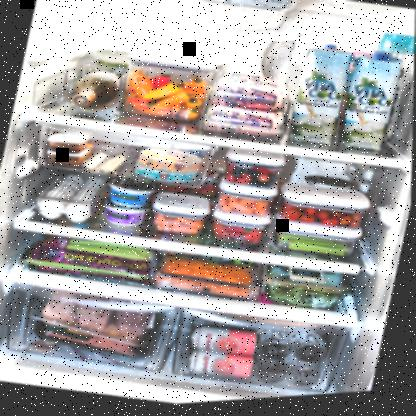carrot: (168, 256, 246, 289)
cheese: (138, 144, 207, 180), (133, 162, 202, 190)
eggs: (63, 201, 92, 226), (38, 197, 66, 221), (46, 188, 72, 202), (54, 183, 78, 198), (65, 174, 84, 186), (75, 192, 94, 204), (89, 176, 105, 187), (81, 188, 98, 197)
ground_beef: (47, 325, 137, 361)
milk: (339, 51, 405, 158), (287, 45, 353, 151)
sausage: (226, 204, 252, 219), (239, 200, 256, 210), (254, 203, 269, 214), (253, 211, 266, 219)
strawberries: (243, 230, 262, 247), (226, 227, 244, 242), (213, 226, 229, 242)
tomato: (284, 212, 300, 225), (338, 219, 354, 231), (321, 221, 338, 230), (318, 213, 330, 225), (300, 217, 314, 227), (352, 216, 363, 226), (306, 211, 317, 221), (332, 216, 344, 223)
yellow_bell_pepper: (148, 89, 188, 121), (143, 79, 181, 106), (127, 69, 156, 99), (151, 74, 172, 91), (189, 80, 208, 97)
yoghurt: (103, 176, 159, 214), (101, 198, 152, 232)
